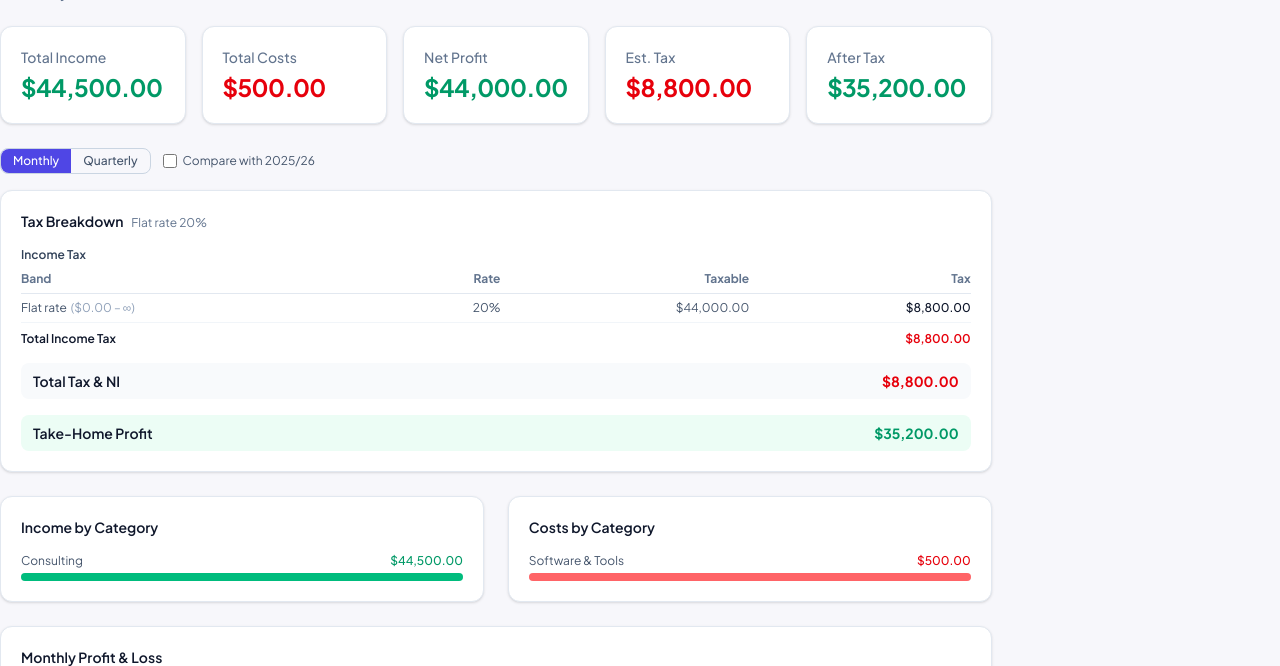
Test: ReportsPage › quarterly logic adjusts month mapping for Apr–Mar tax year
Click the button "quarterly". click: {"x": 110, "y": 161}
box: [71,149,150,173]
(page scrolled)
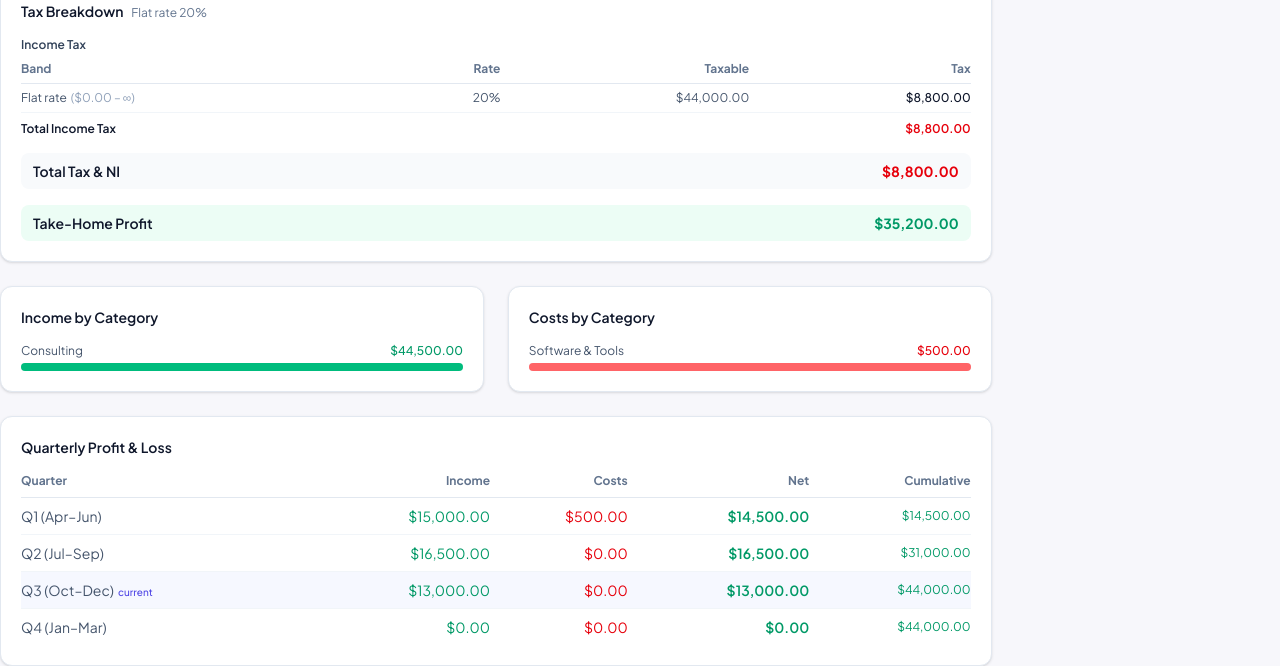
Expected: the text "Q1 (Apr–Jun)" is shown, [21,498,310,534]
